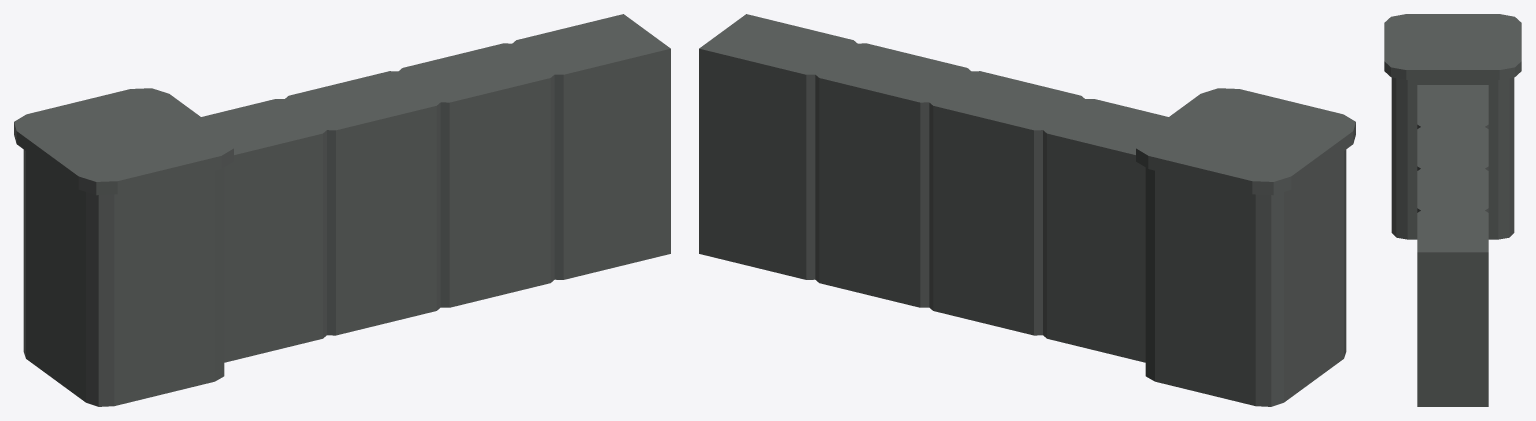
The model's file is Wall.fbx.
3 views of the same model, side by side, from view 1: azimuth 30°, elevation 25°; view 2: azimuth 150°, elevation 25°; view 3: azimuth 270°, elevation 25° (orthographic). The views are drawn at different scales.
Parts seen in each view (by area): view 1: Wall2; view 2: Wall2; view 3: Wall2.
Boxes of the visible parts, bbox=[...] form: Wall2: bbox=[14, 14, 670, 406]; Wall2: bbox=[699, 14, 1355, 406]; Wall2: bbox=[1384, 14, 1521, 406].
Size of the model in its own units: 493 by 180 by 130.
1 material, 1 textured.
